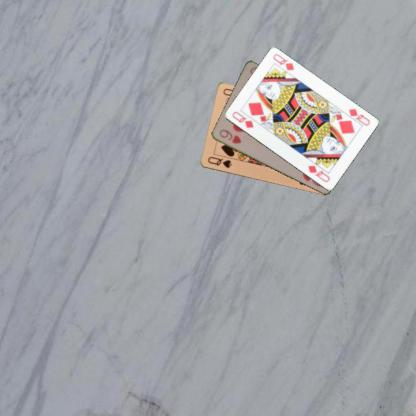9h: (216, 126, 242, 145)
Qd: (341, 106, 371, 128), (230, 108, 254, 130)
Qs: (205, 154, 233, 170)
